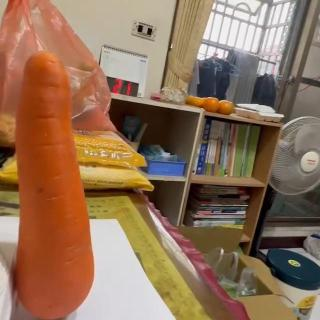carrot: (15, 50, 97, 320)
